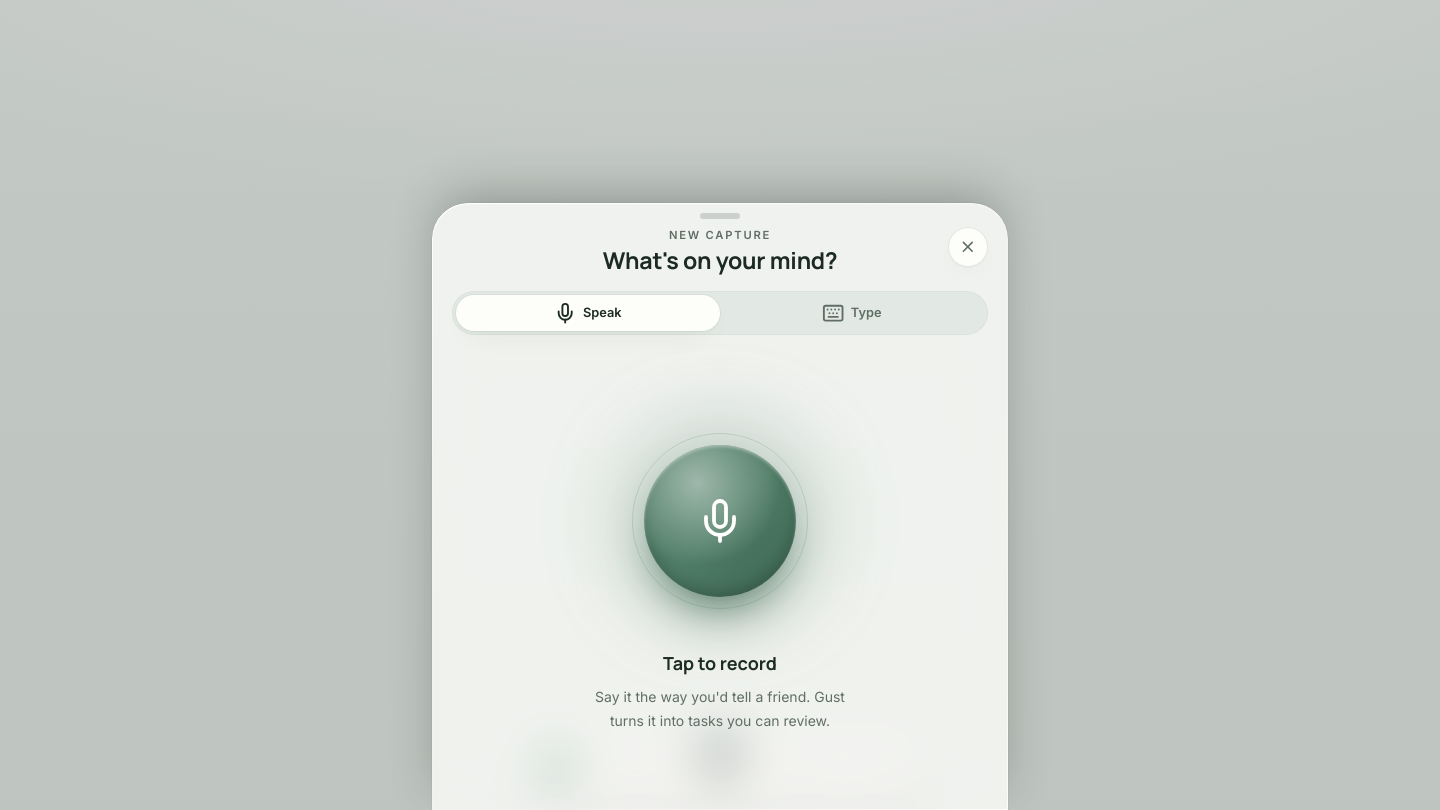
capture pending list dedupe › opens review when the pending-task refresh is stalled
Click the radio button labelled "Type": point(852, 312) 720,294 -> 984,330
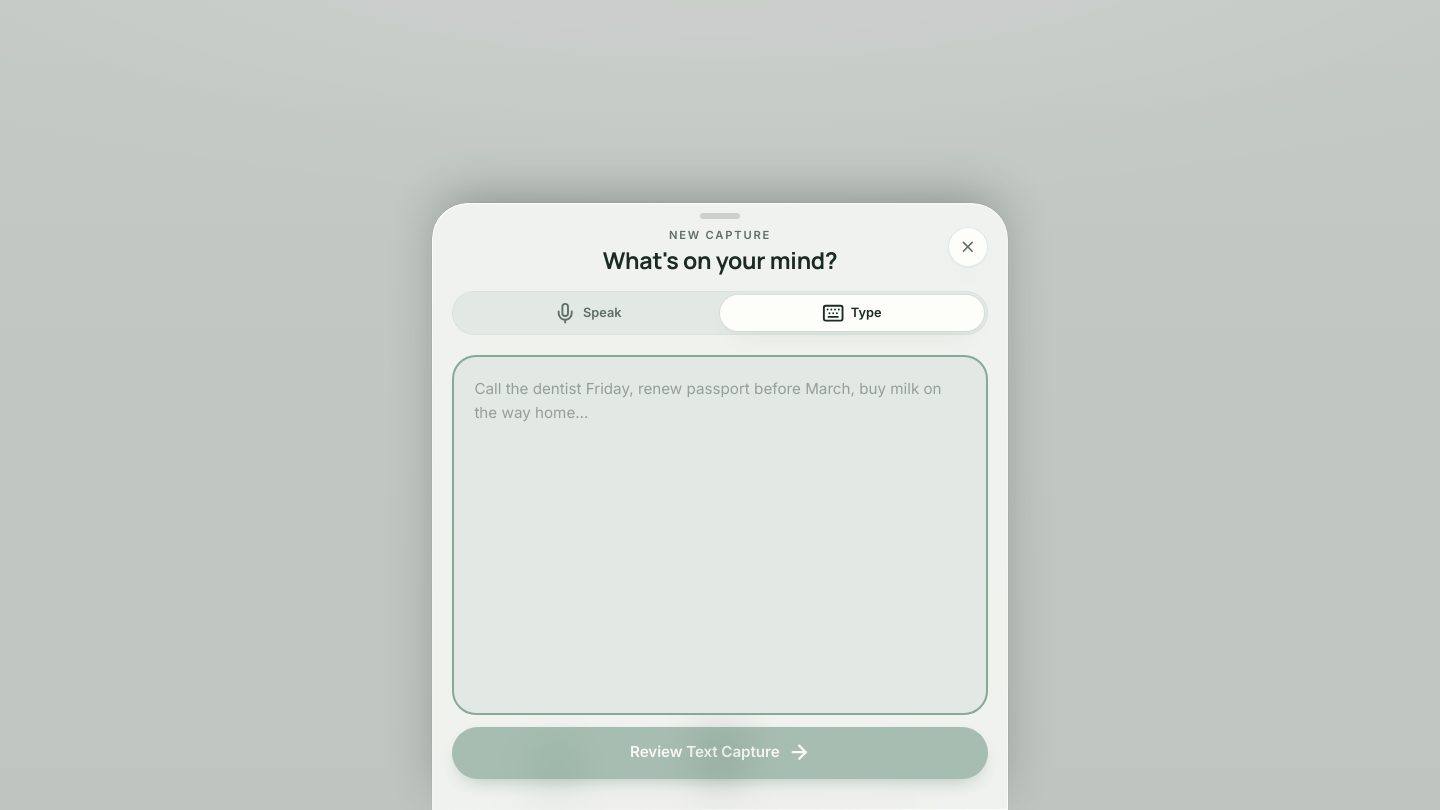
In the text box named "Write it instead": point(720, 534) 452,354 -> 988,714, type "Capture despite refresh issue"
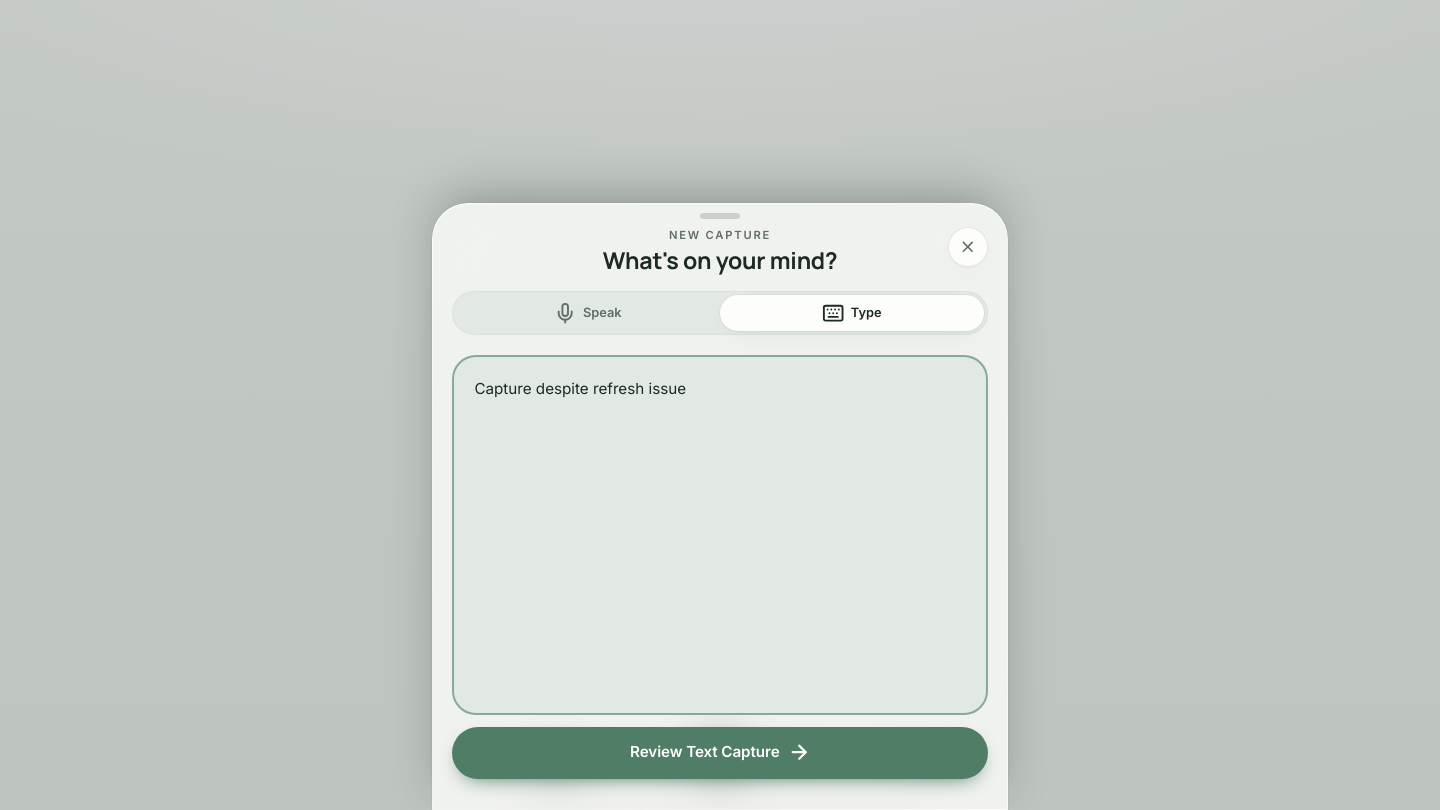
Click the button "Review Text Capture": point(720, 752) 452,726 -> 988,778
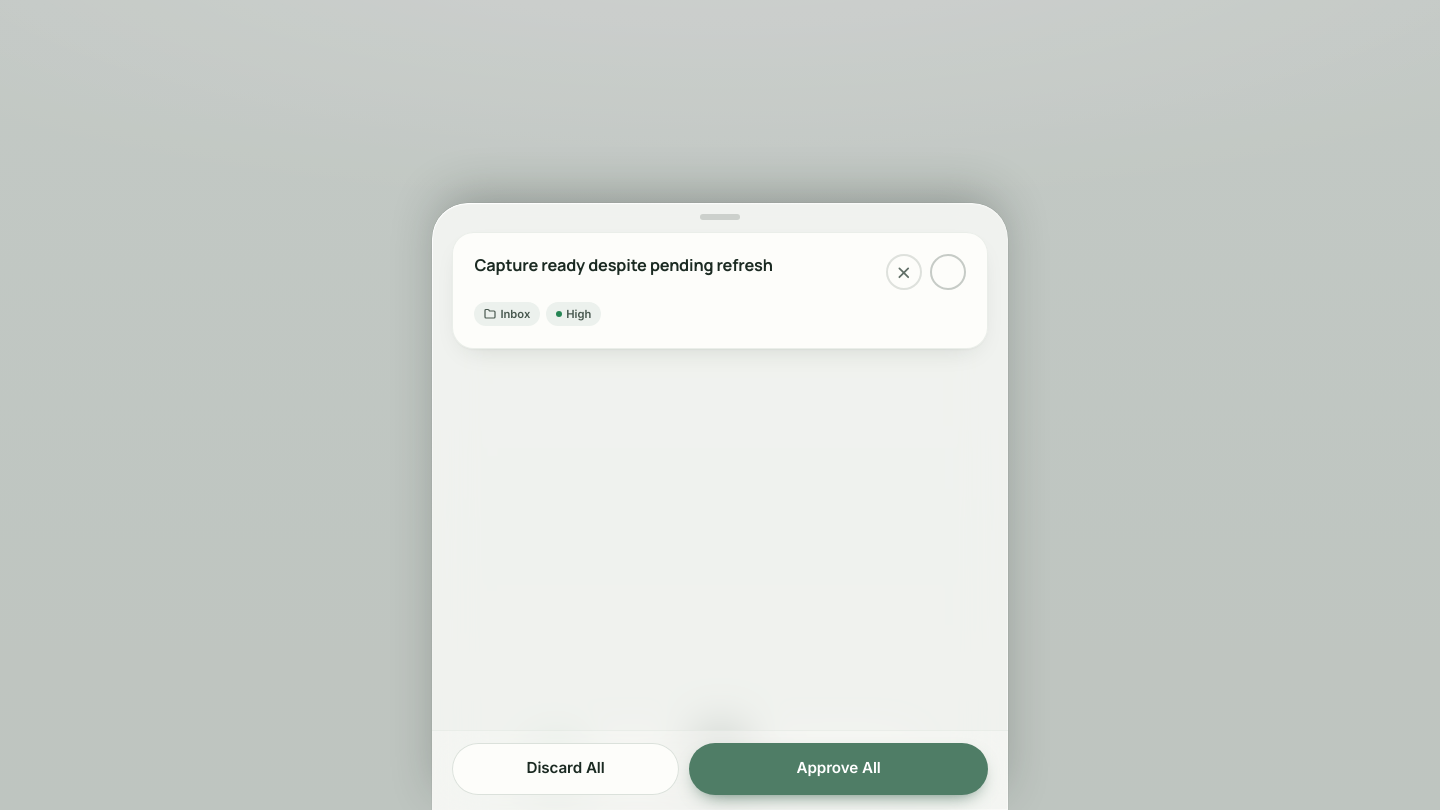
Now the heading "Capture ready despite pending refresh" is shown, box 474,254 -> 773,276
